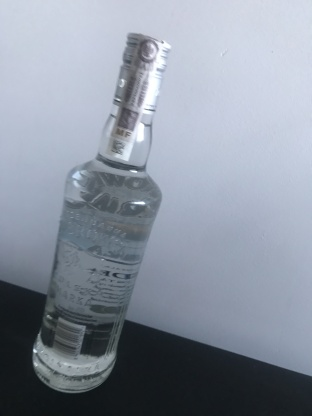nakretka: (111, 28, 173, 117)
